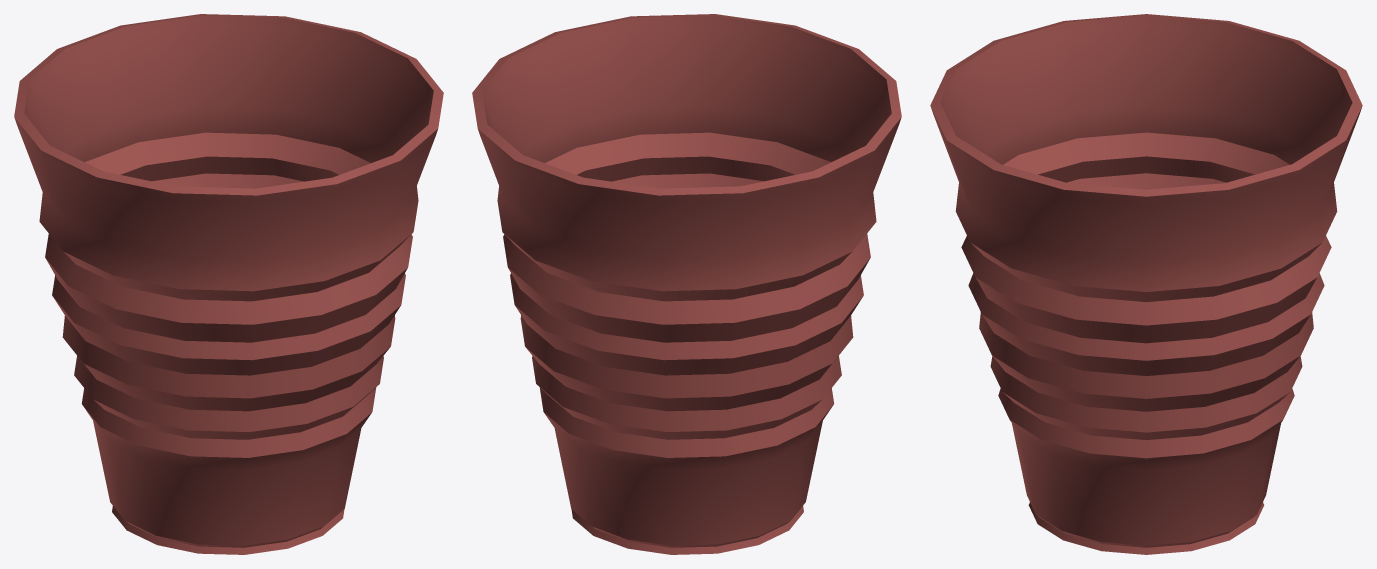
Rendered from VasoPlastico_03.fbx.
3 views of the same model, side by side, from view 1: azimuth 30°, elevation 25°; view 2: azimuth 150°, elevation 25°; view 3: azimuth 270°, elevation 25° (orthographic).
Parts seen in each view (by area): view 1: VasoPlastico_03; view 2: VasoPlastico_03; view 3: VasoPlastico_03.
Part boxes in pixels (bbox=[...]): VasoPlastico_03: bbox=[14, 14, 443, 554]; VasoPlastico_03: bbox=[472, 14, 901, 554]; VasoPlastico_03: bbox=[930, 14, 1362, 554].
Size of the model in its own units: 29.23 by 30.22 by 29.23.
